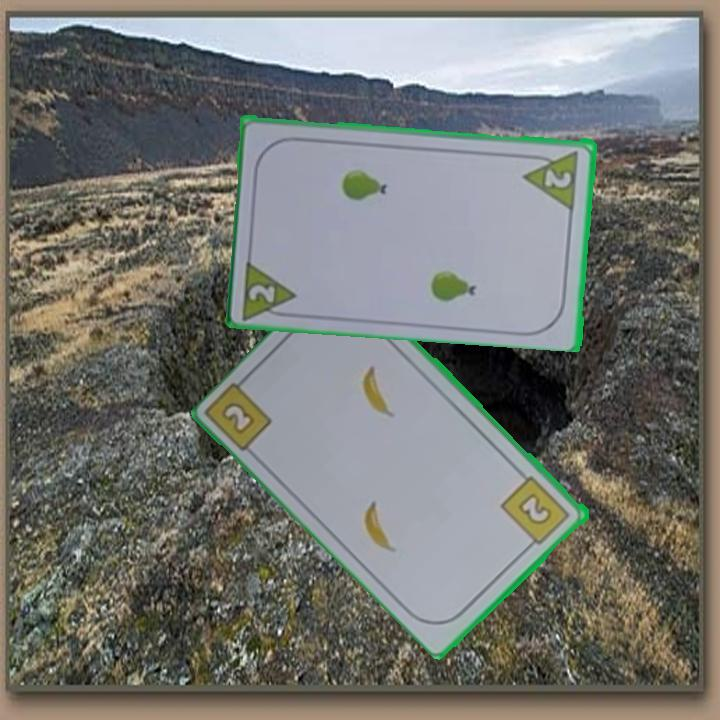2b: (498, 472, 574, 552), (221, 401, 255, 434)
2p: (238, 255, 301, 320), (541, 164, 575, 191)
